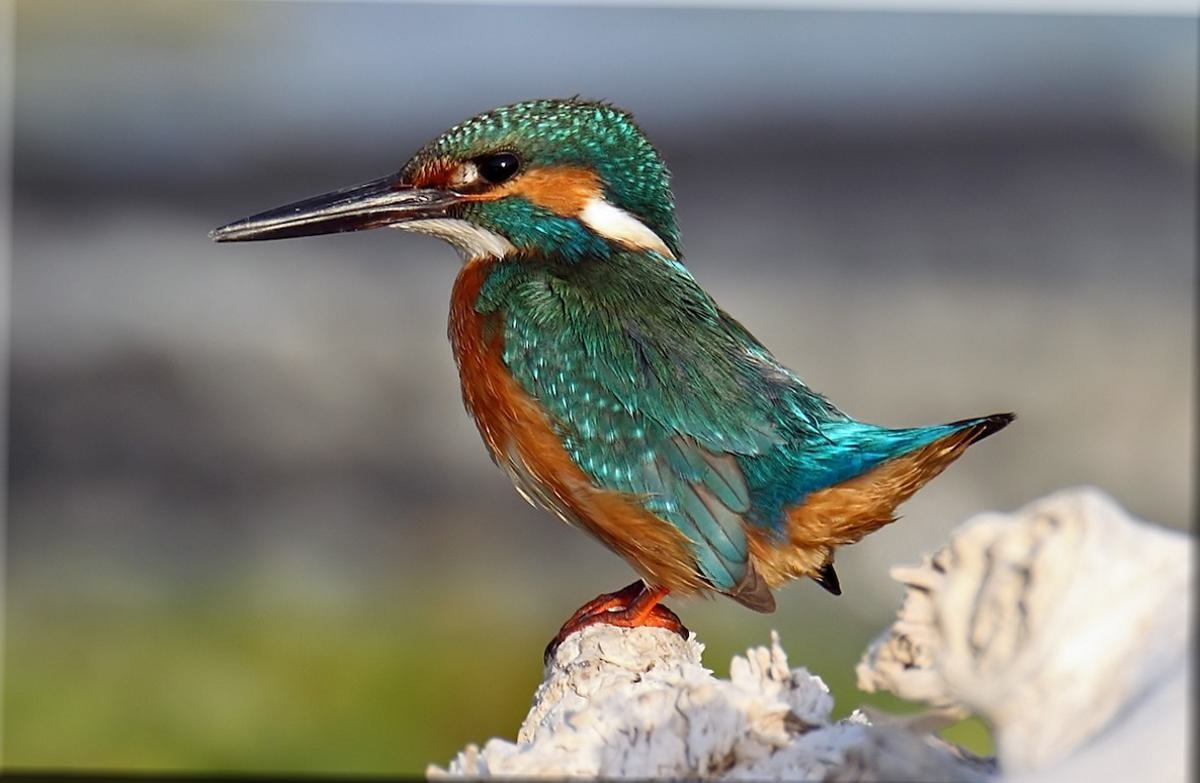kingfisher: (214, 89, 1002, 625)
